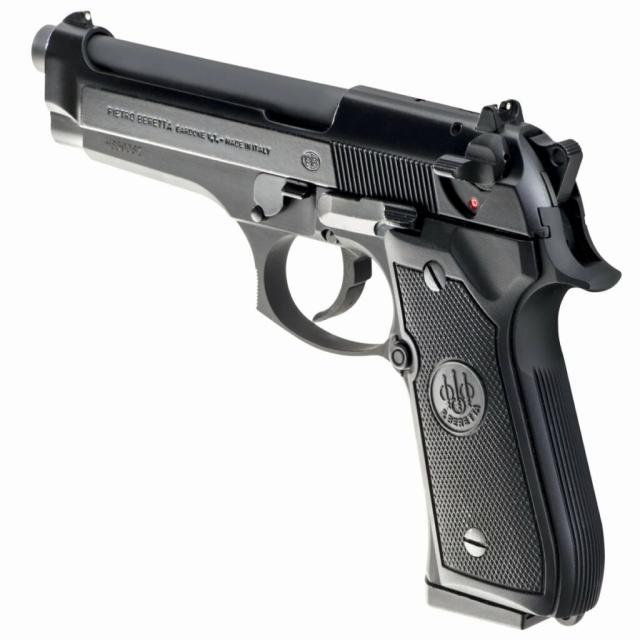Gun: (25, 8, 629, 625)
